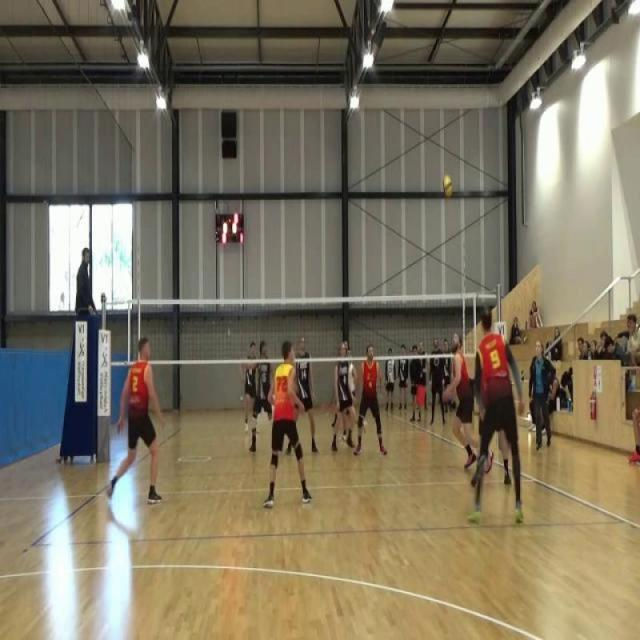volleyball: (442, 174, 454, 199)
